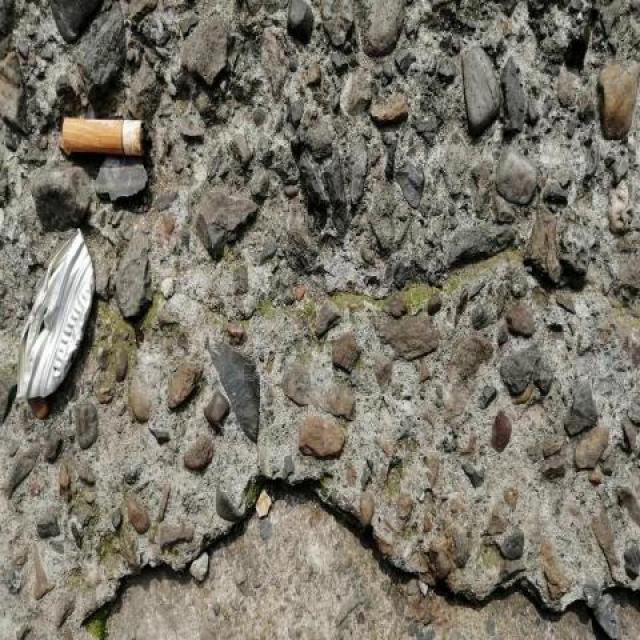non-organic waste: (58, 110, 157, 166)
